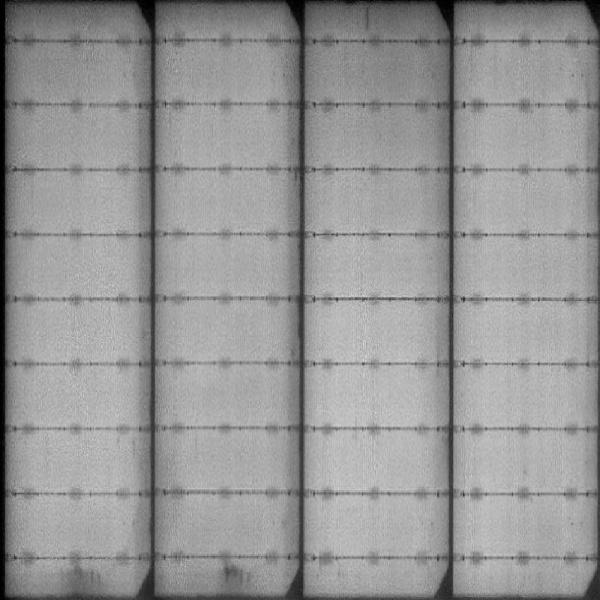scratch: (361, 7, 378, 36)
